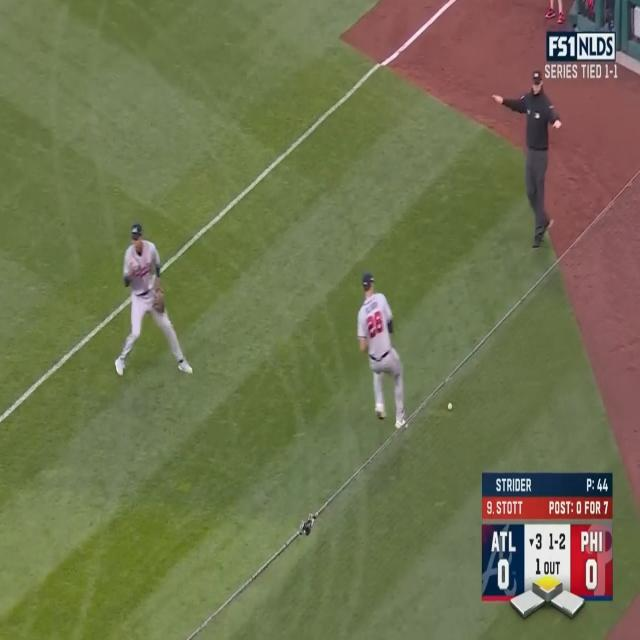baseball: (446, 399, 454, 413)
